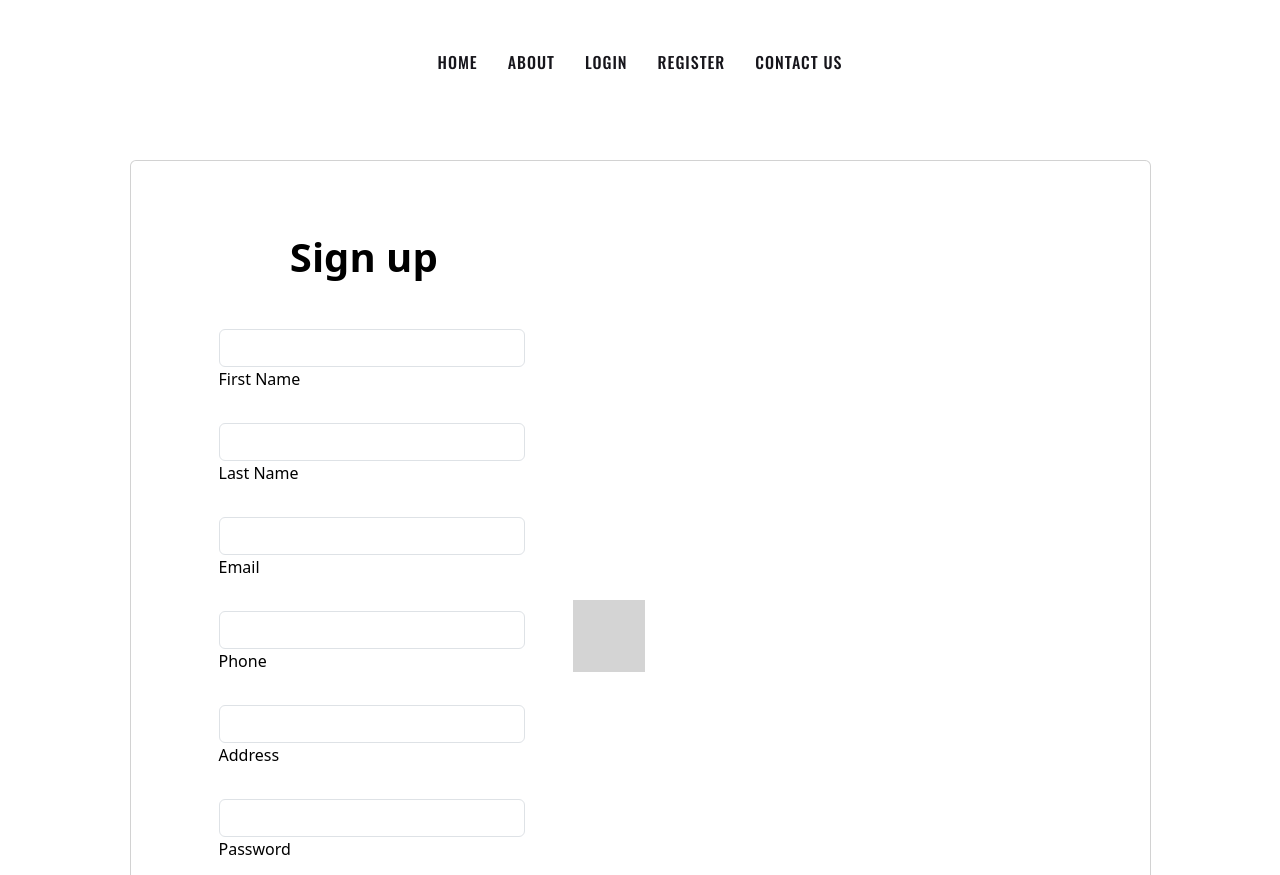
Test: Register Component › should display error for First Name containing digits
// Triggering the validation logic with a First Name containing digits
Step 1. Type "John123" into the field labelled "First Name" → (372, 348), box x1=218 y1=329 x2=525 y2=367
(page scrolled)
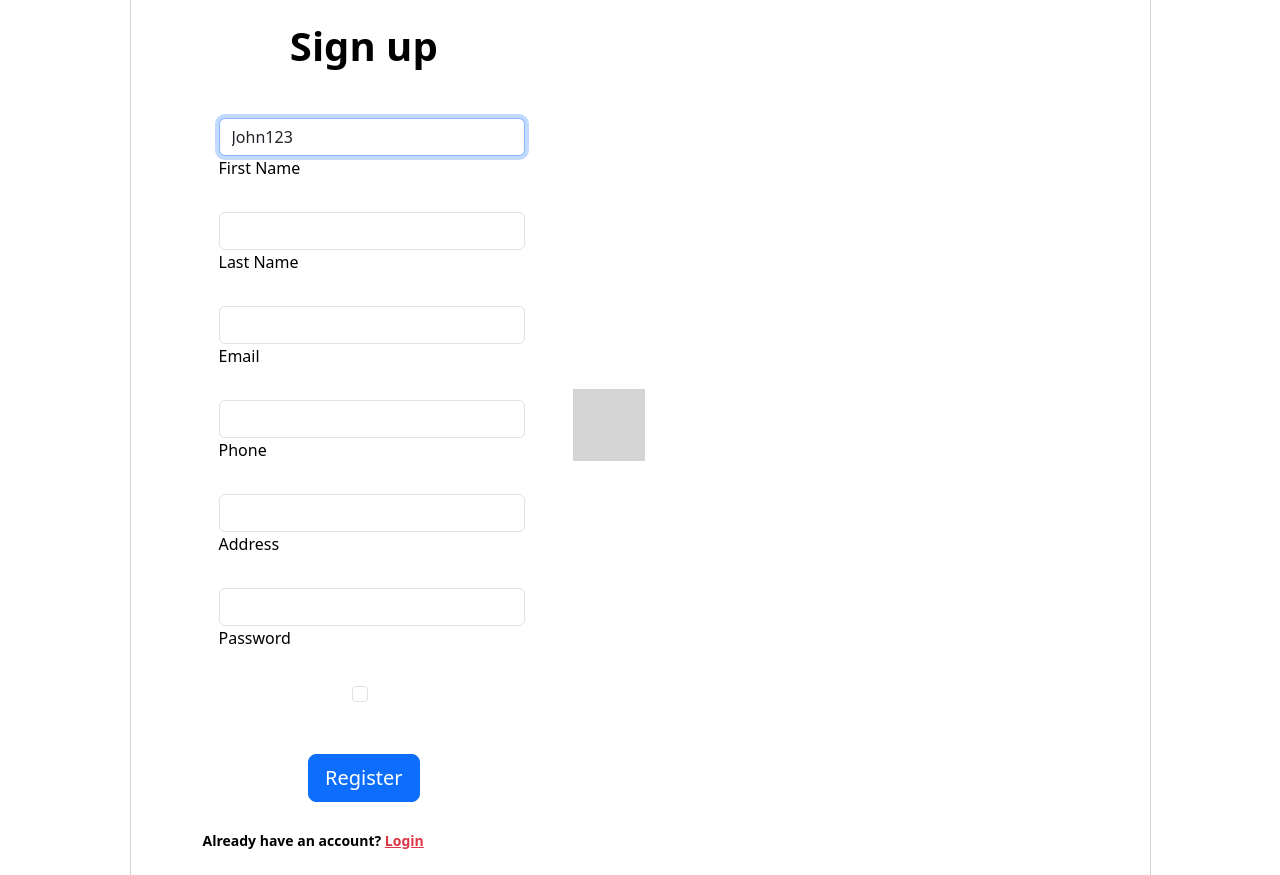
Step 2. Submit the form with test id "registration-form", box x1=202 y1=118 x2=525 y2=851
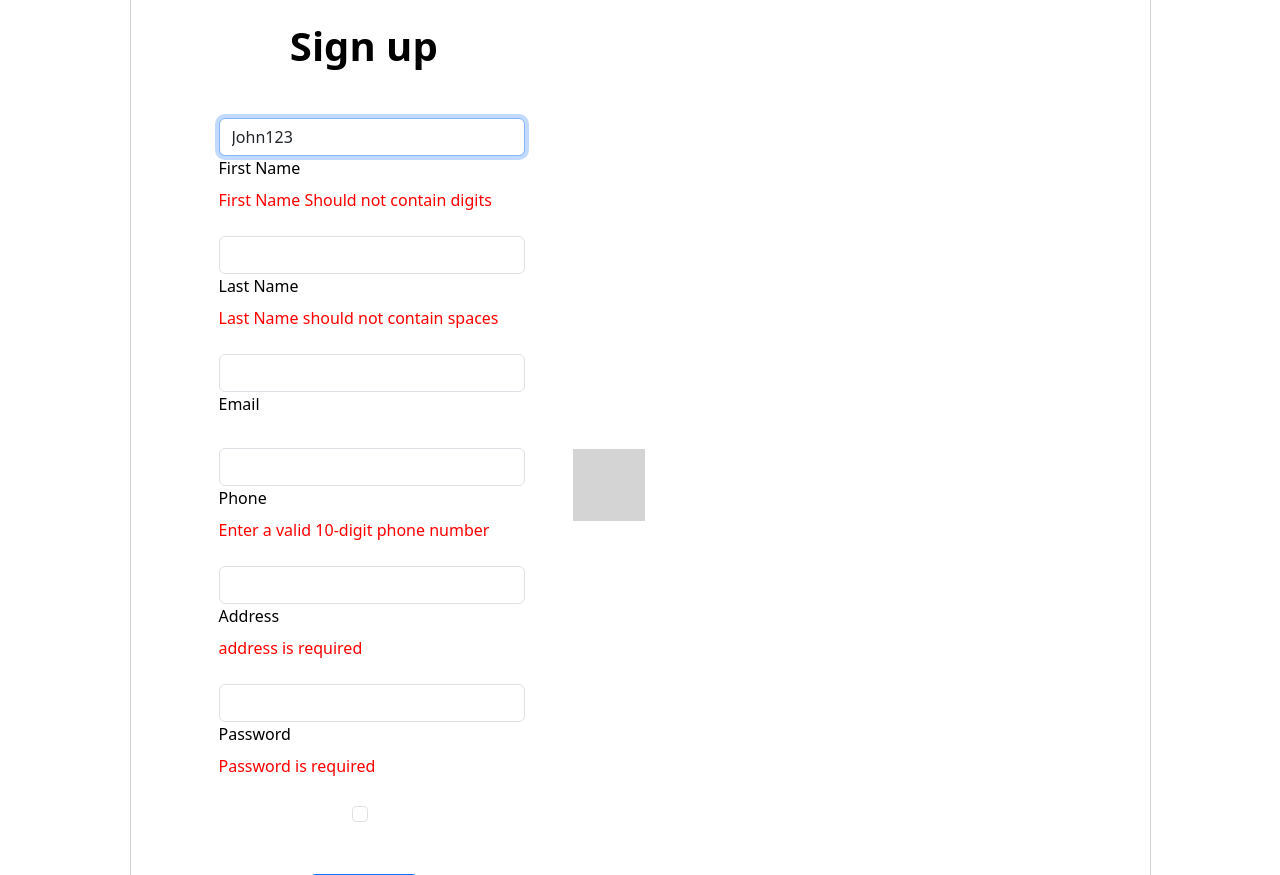
Now the text "First Name Should not contain digits" is shown, box x1=218 y1=188 x2=525 y2=212
